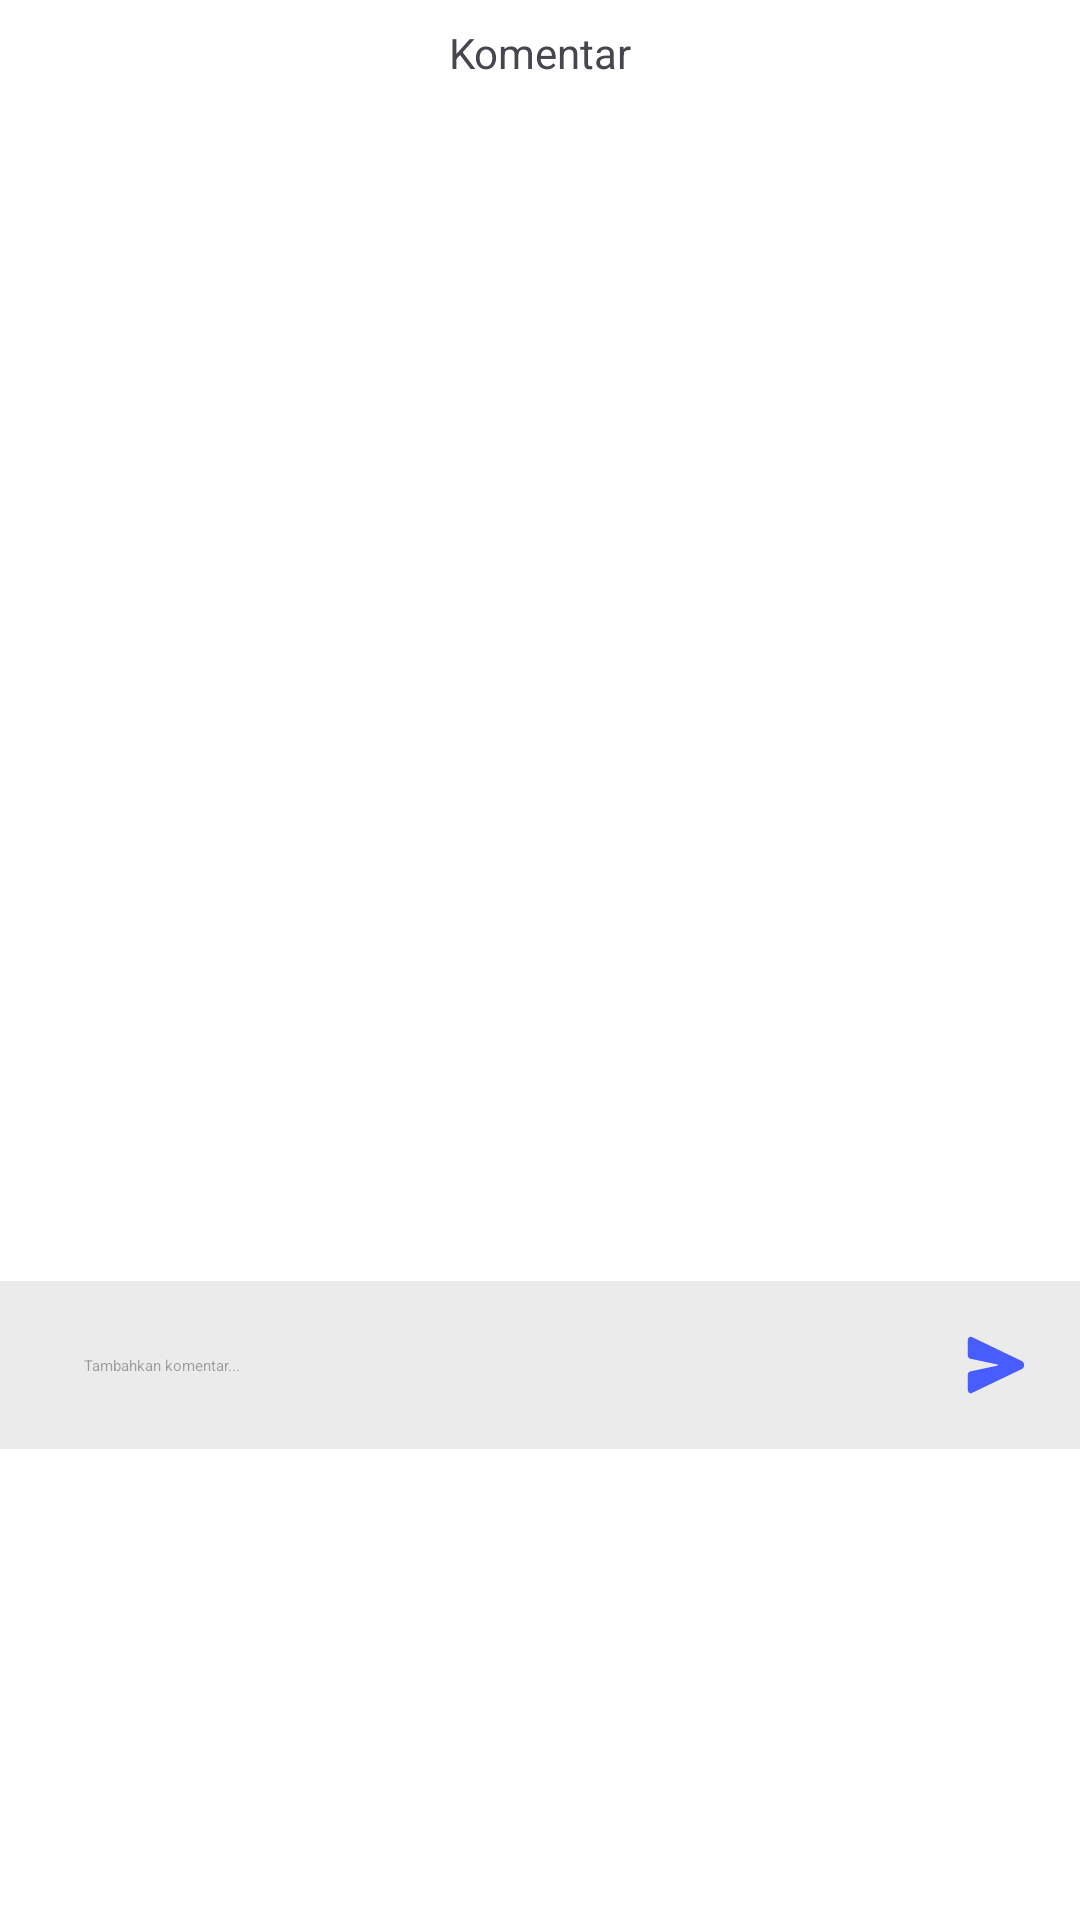

Screen size 1080px x 1920px. Icon name, then its center in pixels as point (x, y):
send: point (995, 1365)
